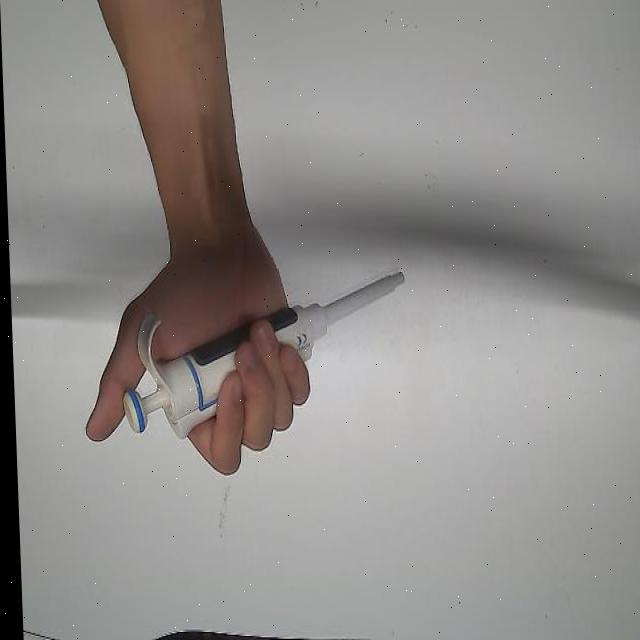Single Channel Pipettor: (115, 268, 411, 442)
